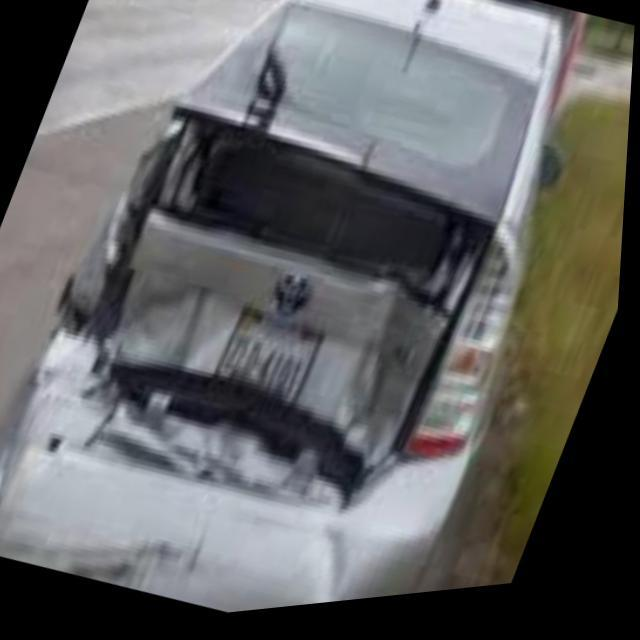crash: (0, 107, 506, 618)
